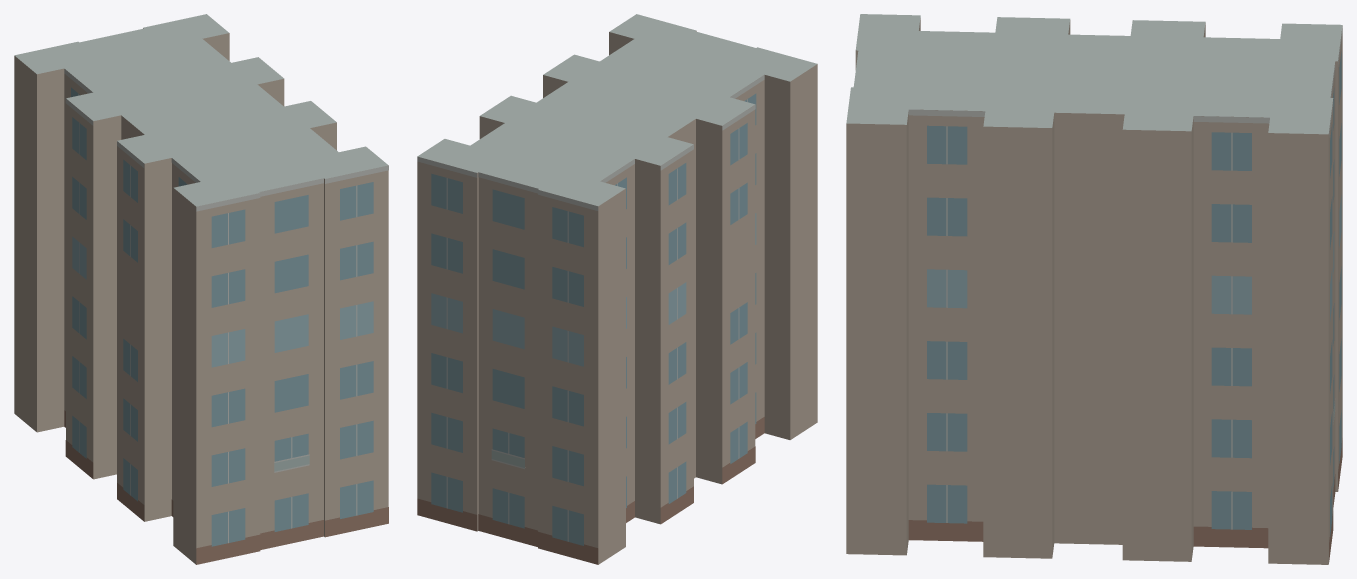
File: survey-upis-32665299.glb
3 views of the same model, side by side, from view 1: azimuth 30°, elevation 25°; view 2: azimuth 150°, elevation 25°; view 3: azimuth 270°, elevation 25° (orthographic). The views are drawn at different scales.
Visible parts, largest first — view 1: survey-upis-32665299.tmp; view 2: survey-upis-32665299.tmp; view 3: survey-upis-32665299.tmp.
Boxes of the visible parts, <box> form: survey-upis-32665299.tmp: <box>14,14,388,564</box>; survey-upis-32665299.tmp: <box>417,14,817,564</box>; survey-upis-32665299.tmp: <box>846,14,1342,564</box>.
Size of the model in its own units: 10.61 by 17.7 by 18.5.
